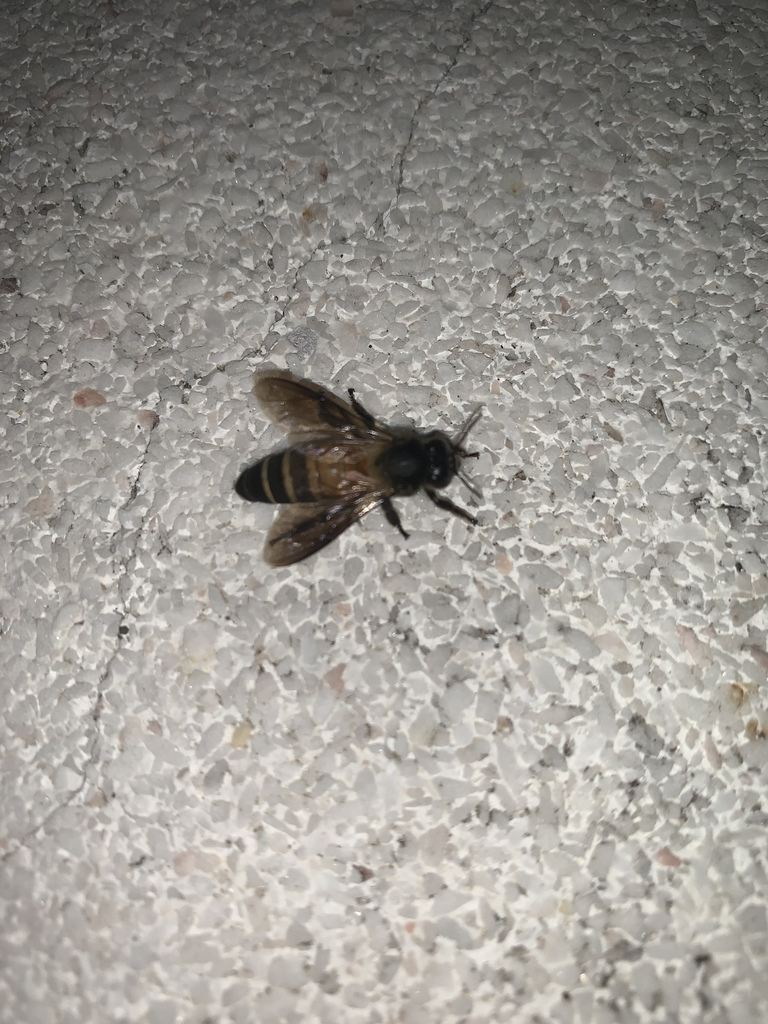honeybee: (232, 367, 477, 567)
